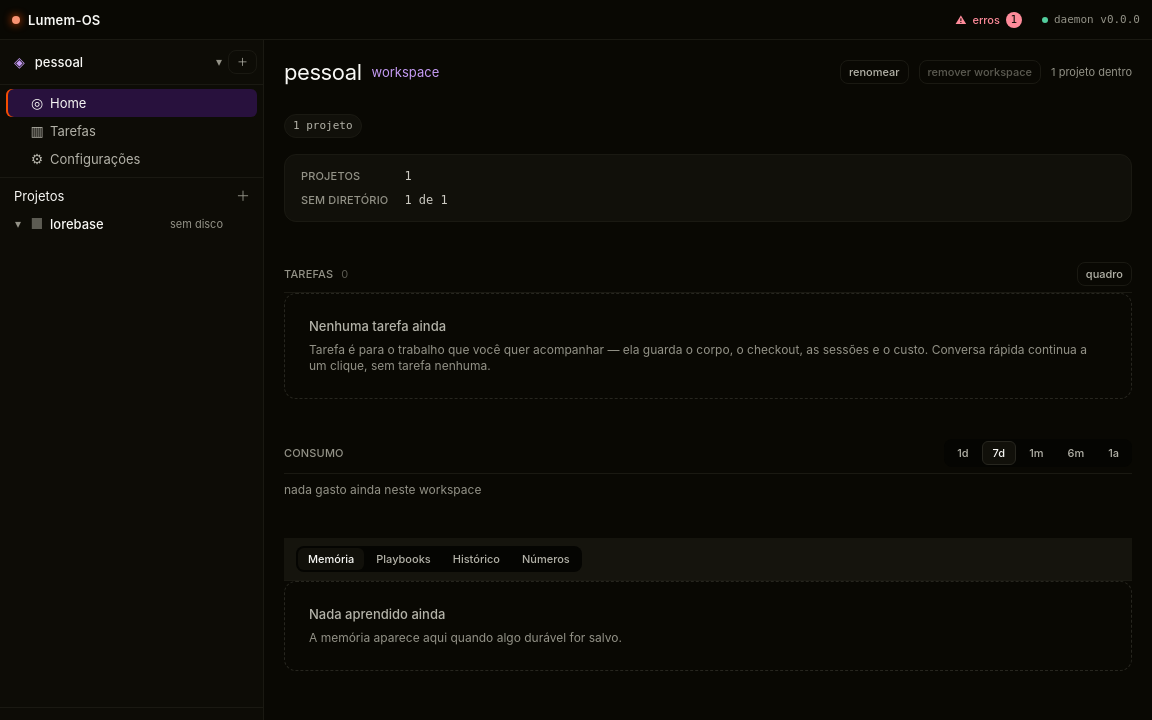
project detail › warns and blocks when the repository is missing from disk
Step 1. Click the button "■ lorebase sem disco" → x=128, y=224, box [26, 210, 231, 238]
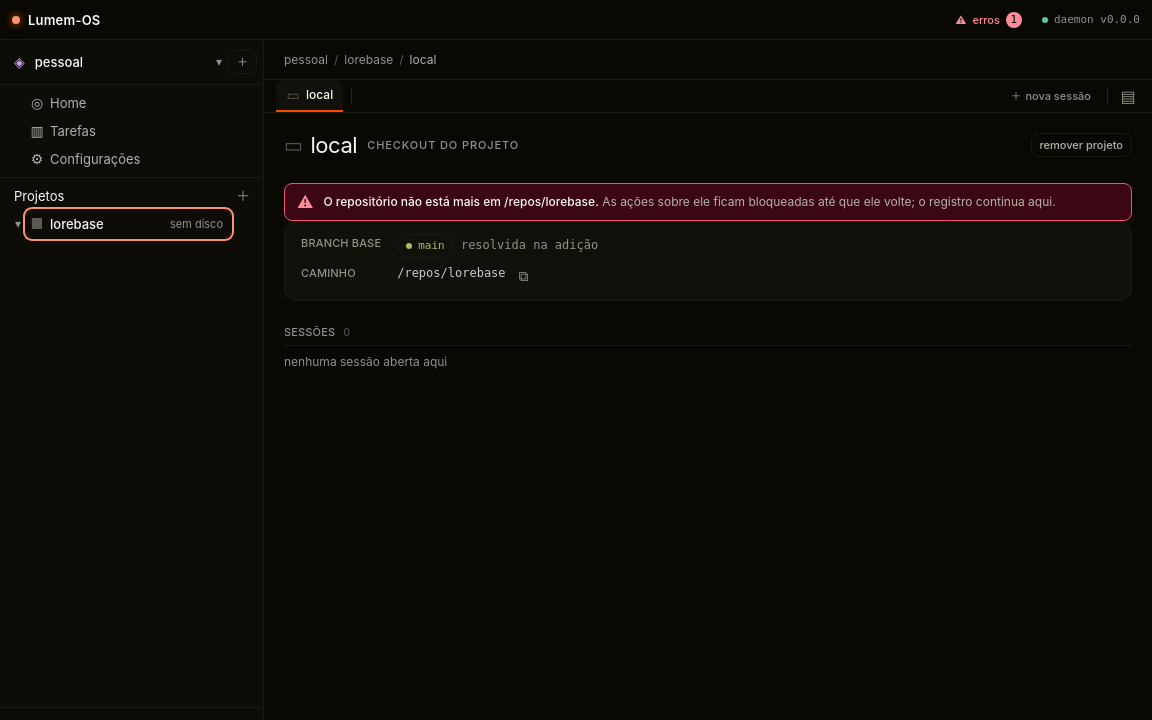
Expected: the message shows "não está mais em /repos/lorebase", [284, 183, 1132, 221]
Expected: the button "remover projeto" is enabled, [1030, 133, 1132, 157]
